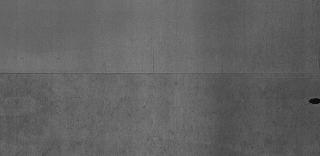punching hole: (308, 98, 320, 105)
